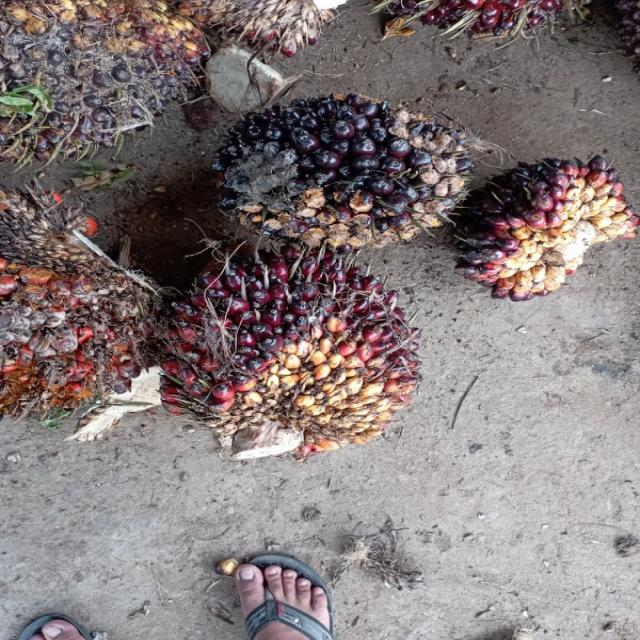fraksi 00: (196, 61, 489, 259)
fraksi 1: (153, 235, 478, 504)
